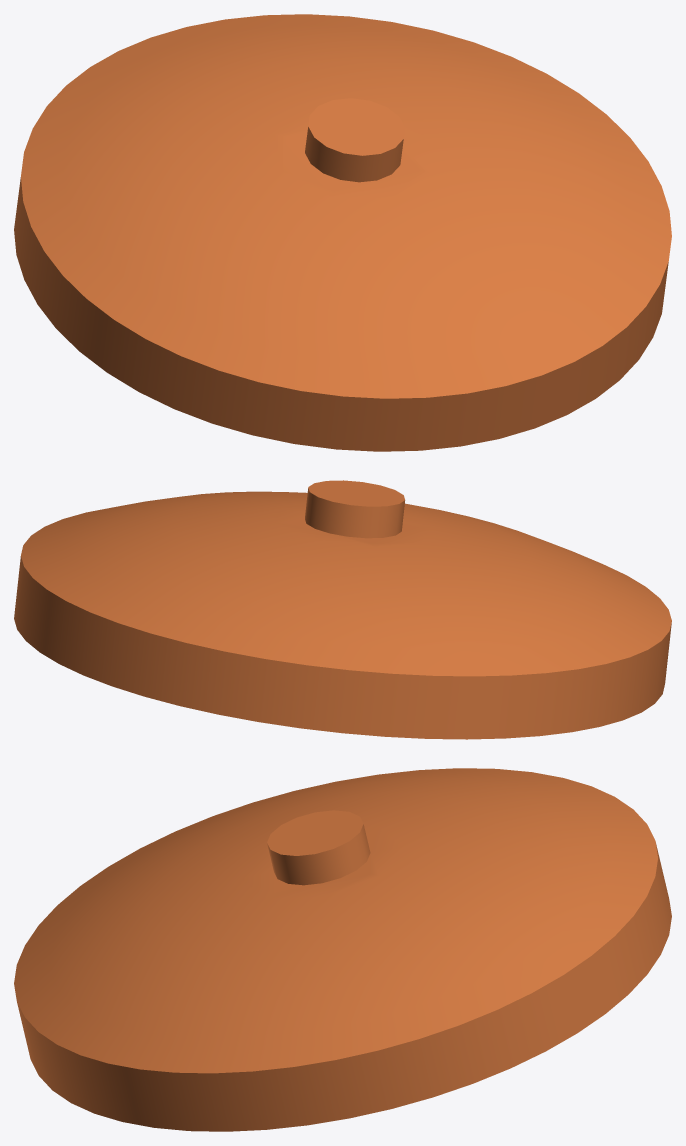
Rendered from 3960_dish_4x4.glb.
The picture shows the model from 3 angles, top to bottom: view 1: azimuth 30°, elevation 25°; view 2: azimuth 150°, elevation 25°; view 3: azimuth 270°, elevation 25°; orthographic projection.
Parts seen in each view (by area): view 1: 3960.dat; view 2: 3960.dat; view 3: 3960.dat.
Boxes of the visible parts, <box> form: 3960.dat: <box>14,14,671,451</box>; 3960.dat: <box>14,480,671,739</box>; 3960.dat: <box>14,768,671,1131</box>.
Size of the model in its own units: 3.2 by 1.17 by 3.2.
